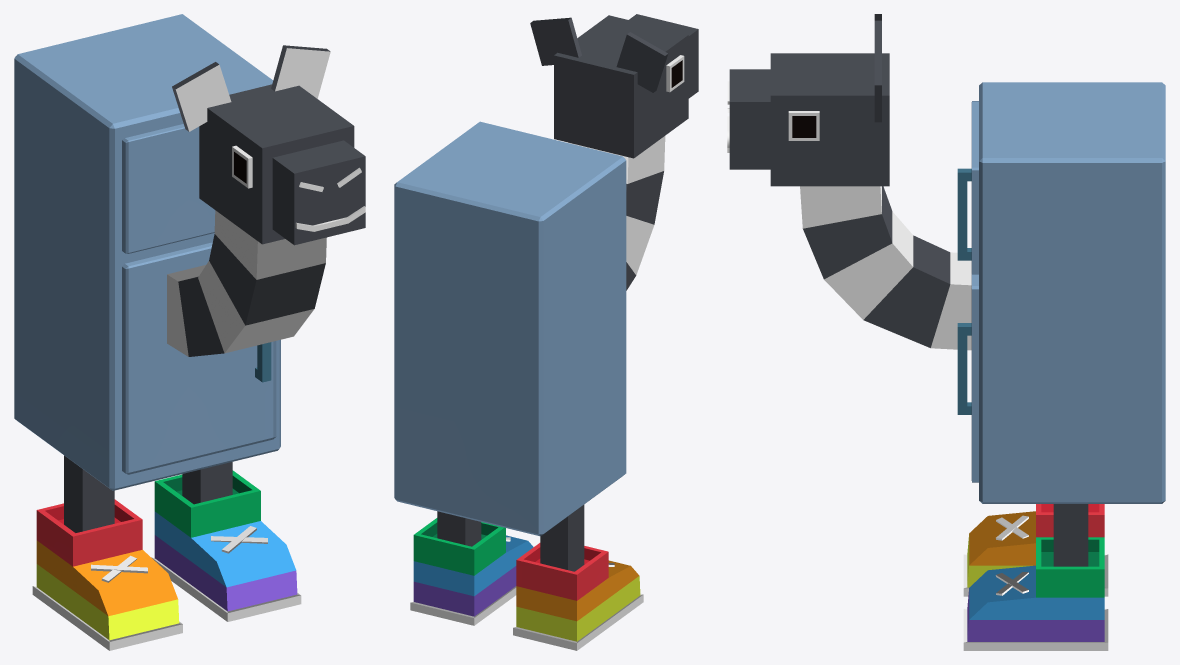
Rendered from Frigo_Camelo.fbx.
3 renders of one model, left to right at view 1: azimuth 30°, elevation 25°; view 2: azimuth 150°, elevation 25°; view 3: azimuth 270°, elevation 25°, orthographic. The views are drawn at different scales.
Parts seen in each view (by area): view 1: Frigo_Camelo; view 2: Frigo_Camelo; view 3: Frigo_Camelo.
Part boxes in pixels (<box>): Frigo_Camelo: <box>14,14,365,650</box>; Frigo_Camelo: <box>394,14,698,650</box>; Frigo_Camelo: <box>727,14,1165,650</box>.
Bounding box in the file's own units: 0.5674 × 1.71 × 1.19.
